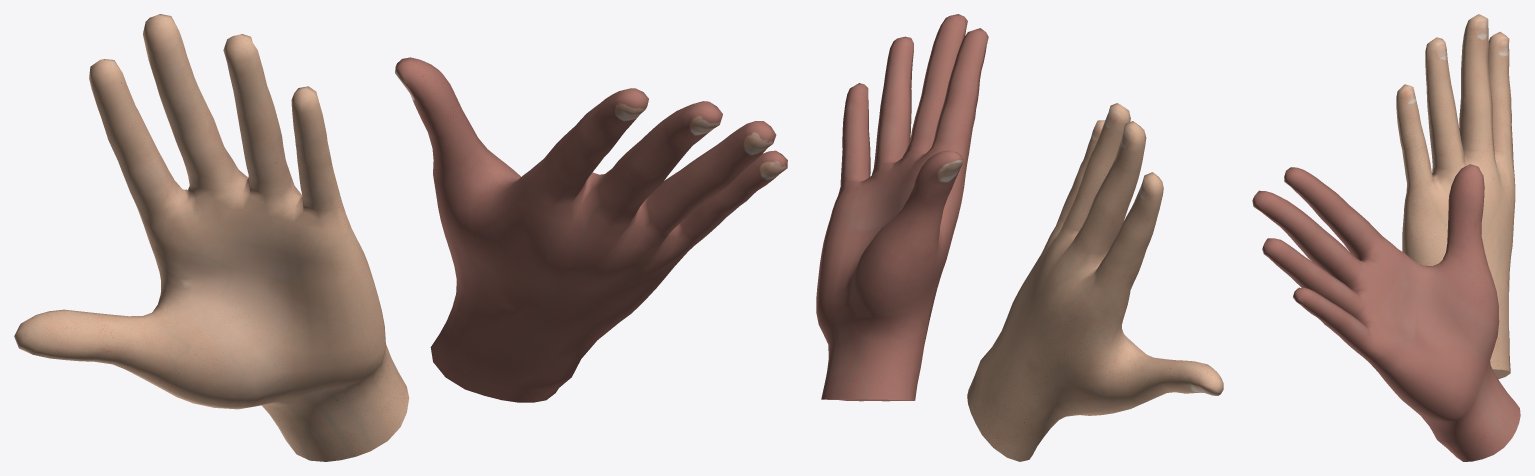
The model's file is oculust_quest_hand_tracking_realistic_texture.glb.
The picture shows the model from 3 angles, left to right: view 1: azimuth 30°, elevation 25°; view 2: azimuth 150°, elevation 25°; view 3: azimuth 270°, elevation 25°; orthographic projection. The views are drawn at different scales.
Parts seen in each view (by area): view 1: Object_90.001_RealisticHandMaterial_lightSkin_0, Object_90_RealisticHandMaterial_darkSkin_0; view 2: Object_90_RealisticHandMaterial_darkSkin_0, Object_90.001_RealisticHandMaterial_lightSkin_0; view 3: Object_90_RealisticHandMaterial_darkSkin_0, Object_90.001_RealisticHandMaterial_lightSkin_0.
Part boxes in pixels (x1,y1,x2,y2): Object_90.001_RealisticHandMaterial_lightSkin_0: (14, 14, 409, 461); Object_90_RealisticHandMaterial_darkSkin_0: (395, 57, 787, 402); Object_90_RealisticHandMaterial_darkSkin_0: (816, 14, 988, 401); Object_90.001_RealisticHandMaterial_lightSkin_0: (967, 103, 1223, 461); Object_90_RealisticHandMaterial_darkSkin_0: (1252, 164, 1520, 461); Object_90.001_RealisticHandMaterial_lightSkin_0: (1396, 14, 1515, 379).
Bounding box in the file's own units: 2882 × 2078 × 1558.
Materials: 2 (2 with a texture image).
